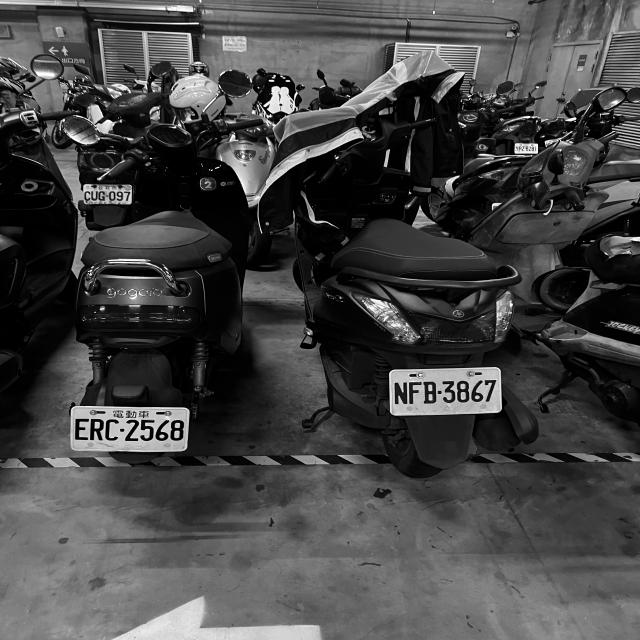-: (120, 426, 126, 434), (438, 389, 443, 395), (106, 194, 108, 197)
0: (109, 191, 115, 201)
2: (126, 419, 140, 443)
3: (442, 378, 457, 403)
5: (140, 418, 154, 441)
6: (155, 418, 171, 442), (471, 380, 483, 402)
7: (482, 378, 500, 402), (124, 191, 130, 201)
8: (170, 418, 186, 442), (456, 379, 472, 403)
9: (116, 191, 122, 201)
B: (422, 380, 437, 404)
C: (104, 417, 118, 441), (84, 191, 90, 201)
E: (74, 417, 90, 441)
F: (408, 380, 422, 404)
G: (98, 191, 105, 201)
N: (393, 380, 408, 405)
R: (90, 417, 104, 442)
U: (91, 190, 98, 200)
plate: (391, 370, 501, 414), (72, 408, 186, 448), (84, 184, 132, 204)
